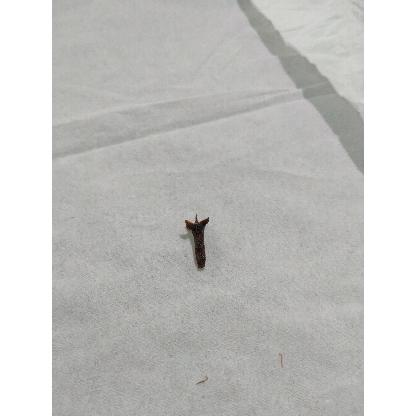buruk: (185, 215, 210, 271)
